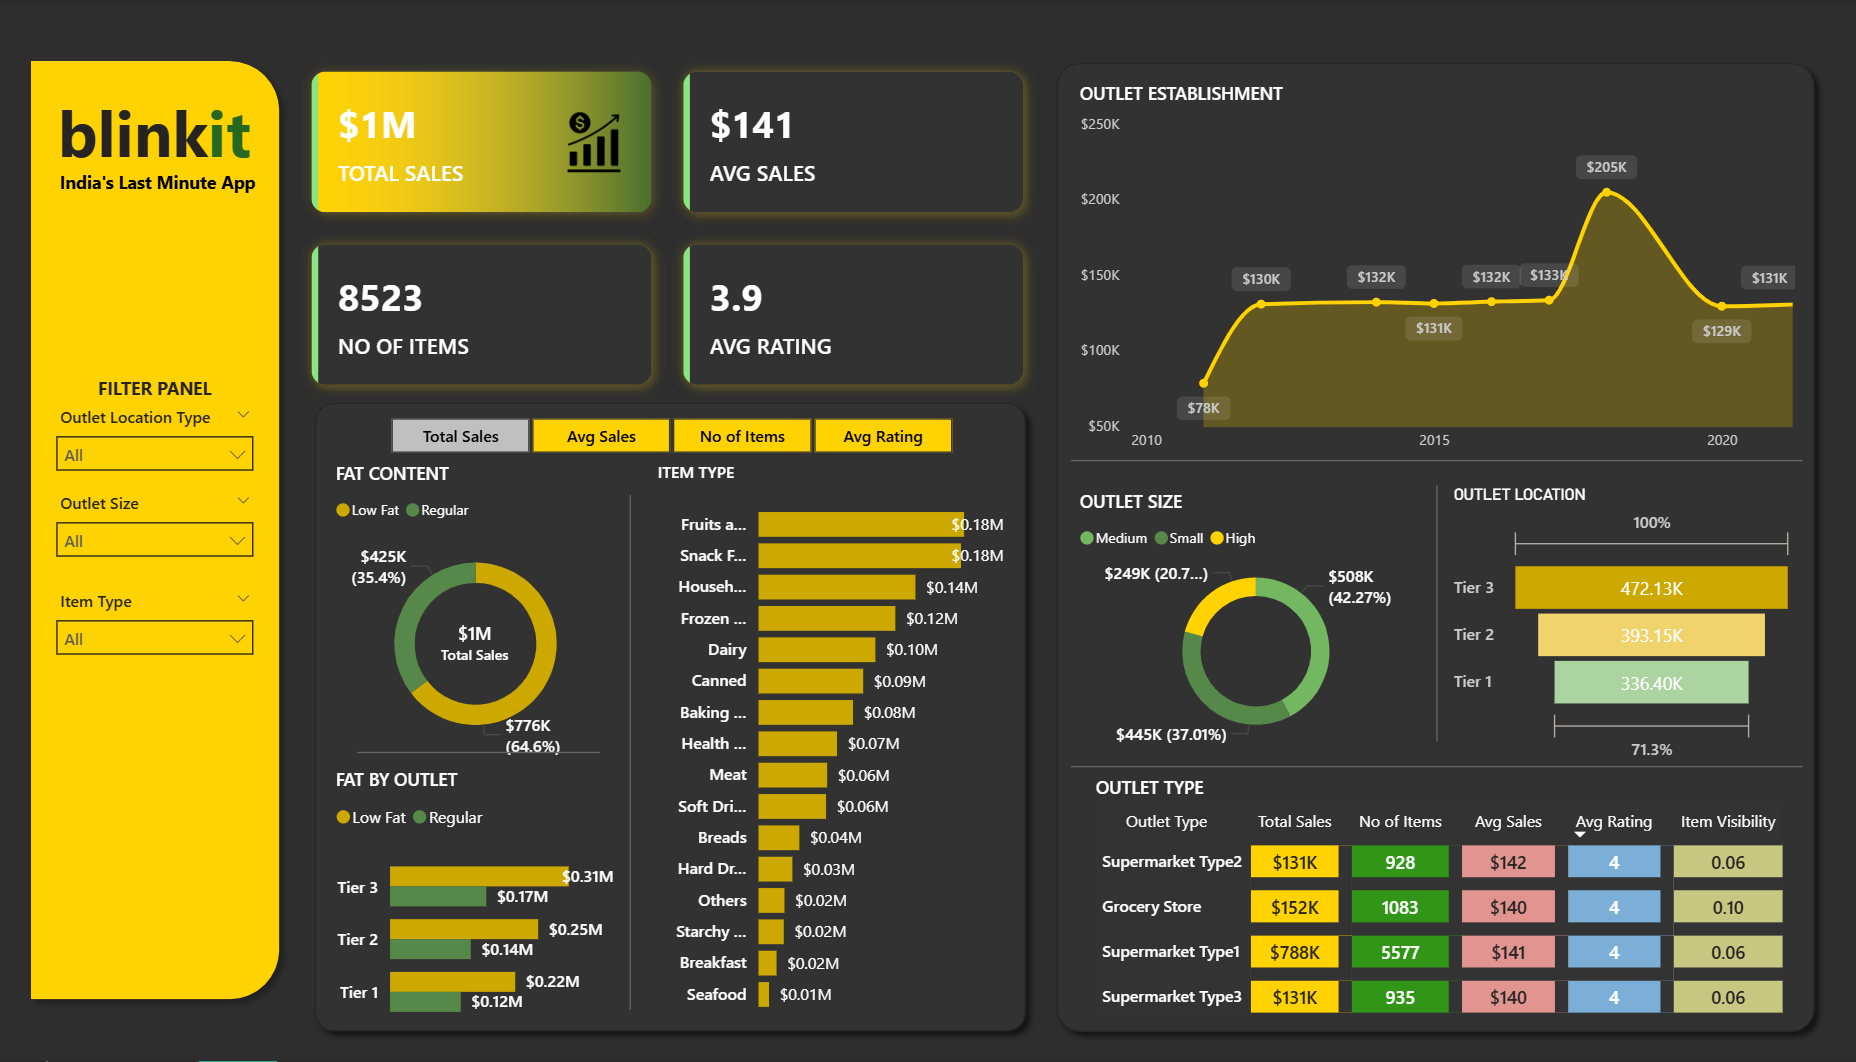

Layout of this report page (visuals, bound fields, positions):
{"tool":"powerbi","page":{"name":"Page 1","canvas":[1400,800],"ordinal":0},"visuals":[{"type":"shape","box":[14.5,37.3,205,724.9],"z":0},{"type":"textbox","box":[33.1,62.1,167.8,76.6],"z":1000},{"type":"textbox","box":[41.4,124.3,159.5,87],"z":2000},{"type":"cardVisual","fields":{"Data":["BlinkIT Grocery Data.Total Sales","BlinkIT Grocery Data.Avg Sales","BlinkIT Grocery Data.No of Items","BlinkIT Grocery Data.Avg Rating"]},"box":[219,37.9,570.7,270.7],"z":3000},{"type":"shape","box":[229.3,294.8,553.4,491.4],"z":4000},{"type":"donutChart","title":"FAT CONTENT","fields":{"Y":["BlinkIT Grocery Data.No of Items"],"Category":["BlinkIT Grocery Data.Item Fat Content"]},"box":[248.3,348.3,220.7,231],"z":5000},{"type":"slicer","fields":{"Values":["Metrics.Metrics"]},"box":[269,308.6,472.4,39.7],"z":6000},{"type":"cardVisual","fields":{"Data":["BlinkIT Grocery Data.No of Items"]},"box":[310.3,450,96.6,69],"z":7000},{"type":"clusteredBarChart","title":"FAT BY OUTLET","fields":{"Y":["BlinkIT Grocery Data.No of Items"],"Category":["BlinkIT Grocery Data.Outlet Location Type"],"Series":["BlinkIT Grocery Data.Item Fat Content"]},"box":[249.1,578.9,219.3,207],"z":8000},{"type":"shape","box":[269,541.4,182.8,53.4],"z":9000},{"type":"shape","box":[444.8,374.1,62.1,387.9],"z":10000},{"type":"barChart","title":"ITEM TYPE","fields":{"Y":["BlinkIT Grocery Data.No of Items"],"Category":["BlinkIT Grocery Data.Item Type"]},"box":[491.4,348.3,270.7,425.9],"z":11000},{"type":"shape","box":[788.6,38.6,588.6,747.7],"z":12000},{"type":"lineChart","title":"OUTLET ESTABLISHMENT","fields":{"Category":["BlinkIT Grocery Data.Outlet Establishment Year"],"Y":["BlinkIT Grocery Data.Total Sales"]},"box":[808.8,61.4,549.1,287.7],"z":13000},{"type":"shape","box":[807,328.1,550.9,38.6],"z":14000},{"type":"donutChart","title":"OUTLET SIZE","fields":{"Y":["BlinkIT Grocery Data.Total Sales"],"Category":["BlinkIT Grocery Data.Outlet Size"]},"box":[808.8,368.4,275.4,200],"z":15000},{"type":"shape","box":[1050.9,366.7,63.2,193],"z":16000},{"type":"funnel","title":"OUTLET LOCATION","fields":{"Y":["Sum(BlinkIT Grocery Data.Sales)"],"Category":["BlinkIT Grocery Data.Outlet Location Type"]},"box":[1091.2,366.7,266.7,212.3],"z":17000},{"type":"shape","box":[807,559.6,550.9,38.6],"z":18000},{"type":"pivotTable","title":"OUTLET TYPE","fields":{"Rows":["BlinkIT Grocery Data.Outlet Type"],"Values":["BlinkIT Grocery Data.Total Sales","BlinkIT Grocery Data.No of Items","BlinkIT Grocery Data.Avg Sales","BlinkIT Grocery Data.Avg Rating","Avg(BlinkIT Grocery Data.Item Visibility)"]},"box":[821.1,584.2,536.8,196.5],"z":19000},{"type":"slicer","fields":{"Values":["BlinkIT Grocery Data.Outlet Location Type"]},"box":[33.3,301.8,168.4,66.7],"z":20000},{"type":"slicer","fields":{"Values":["BlinkIT Grocery Data.Outlet Size"]},"box":[33.3,366.7,168.4,66.7],"z":21000},{"type":"slicer","fields":{"Values":["BlinkIT Grocery Data.Item Type"]},"box":[33.3,440.4,168.4,66.7],"z":22000},{"type":"textbox","box":[33.3,278.9,168.4,31.6],"z":23000}]}

Visuals, with their boxes in screenshot pixels (x1, y1, x2, y2), scaled from the page's 1400x800 canvas onto the 1856x1062 screenshot:
shape: (left=19, top=50, right=291, bottom=1012)
textbox: (left=44, top=82, right=266, bottom=184)
textbox: (left=55, top=165, right=266, bottom=281)
cardVisual - BlinkIT Grocery Data.Total Sales x BlinkIT Grocery Data.Avg Sales: (left=290, top=50, right=1047, bottom=410)
shape: (left=304, top=391, right=1038, bottom=1044)
"FAT CONTENT" donutChart: (left=329, top=462, right=622, bottom=769)
slicer - Metrics.Metrics: (left=357, top=410, right=983, bottom=462)
cardVisual - BlinkIT Grocery Data.No of Items: (left=411, top=597, right=539, bottom=689)
"FAT BY OUTLET" clusteredBarChart: (left=330, top=768, right=621, bottom=1043)
shape: (left=357, top=719, right=599, bottom=790)
shape: (left=590, top=497, right=672, bottom=1012)
"ITEM TYPE" barChart: (left=651, top=462, right=1010, bottom=1028)
shape: (left=1045, top=51, right=1826, bottom=1044)
"OUTLET ESTABLISHMENT" lineChart: (left=1072, top=82, right=1800, bottom=463)
shape: (left=1070, top=436, right=1800, bottom=487)
"OUTLET SIZE" donutChart: (left=1072, top=489, right=1437, bottom=755)
shape: (left=1393, top=487, right=1477, bottom=743)
"OUTLET LOCATION" funnel: (left=1447, top=487, right=1800, bottom=769)
shape: (left=1070, top=743, right=1800, bottom=794)
"OUTLET TYPE" pivotTable: (left=1089, top=776, right=1800, bottom=1036)
slicer - BlinkIT Grocery Data.Outlet Location Type: (left=44, top=401, right=267, bottom=489)
slicer - BlinkIT Grocery Data.Outlet Size: (left=44, top=487, right=267, bottom=575)
slicer - BlinkIT Grocery Data.Item Type: (left=44, top=585, right=267, bottom=673)
textbox: (left=44, top=370, right=267, bottom=412)
